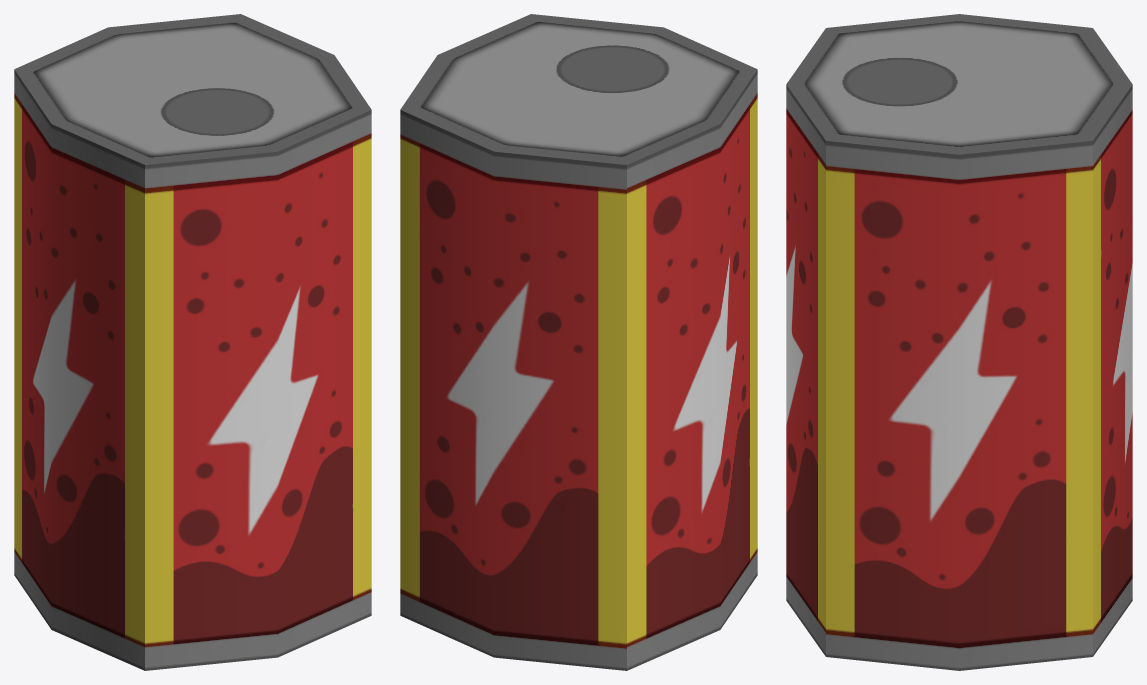
Rendered from Energy Drink.FBX.
The picture shows the model from 3 angles, left to right: view 1: azimuth 30°, elevation 25°; view 2: azimuth 150°, elevation 25°; view 3: azimuth 270°, elevation 25°; orthographic projection. The views are drawn at different scales.
Visible parts, largest first — view 1: Box020; view 2: Box020; view 3: Box020.
Boxes of the visible parts, left/top/right/bottom form: Box020: left=14, top=14, right=371, bottom=670; Box020: left=400, top=14, right=757, bottom=670; Box020: left=786, top=14, right=1132, bottom=670.
Size of the model in its own units: 24.96 by 42.66 by 25.95.
Materials: 1 (1 with a texture image).
